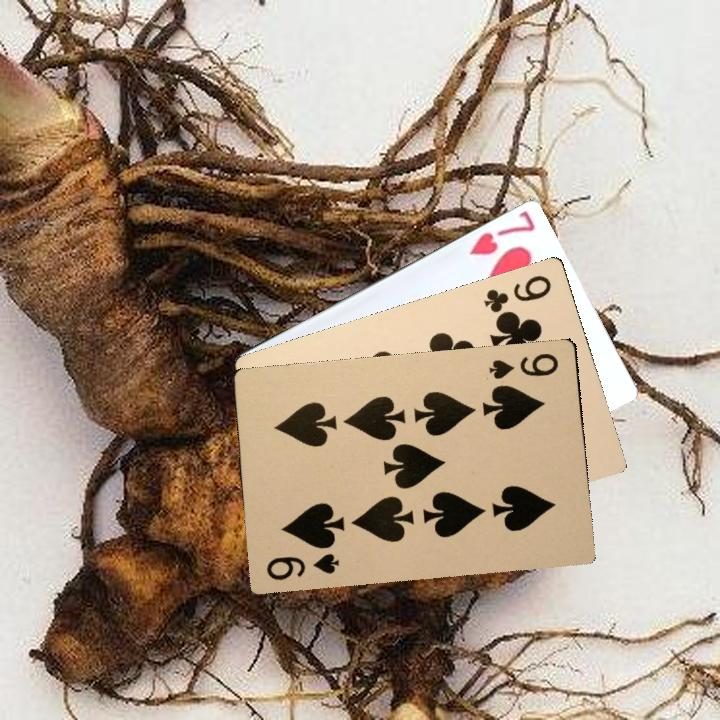7h: (465, 206, 538, 259)
9c: (479, 271, 554, 319)
9s: (262, 549, 342, 583), (484, 349, 561, 382)
